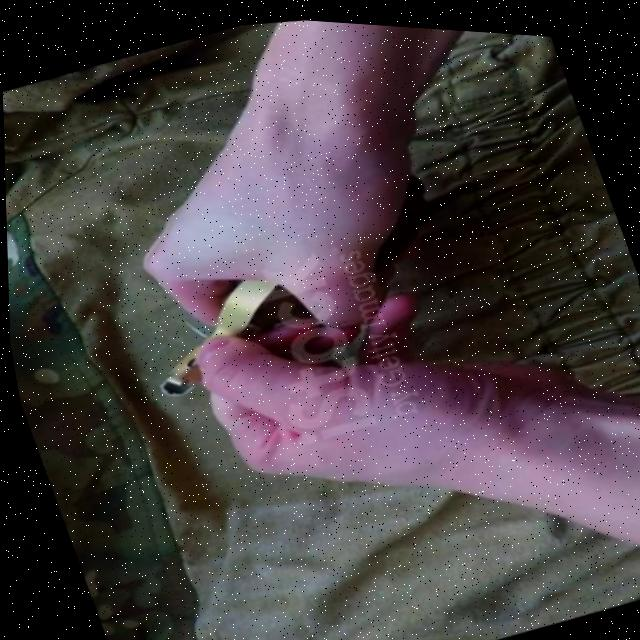grenade: (98, 142, 478, 415)
